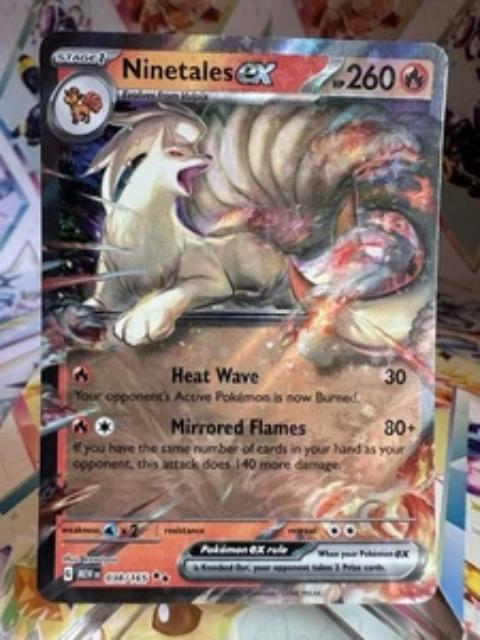Card: (34, 28, 452, 609)
Name: (118, 54, 281, 91)
